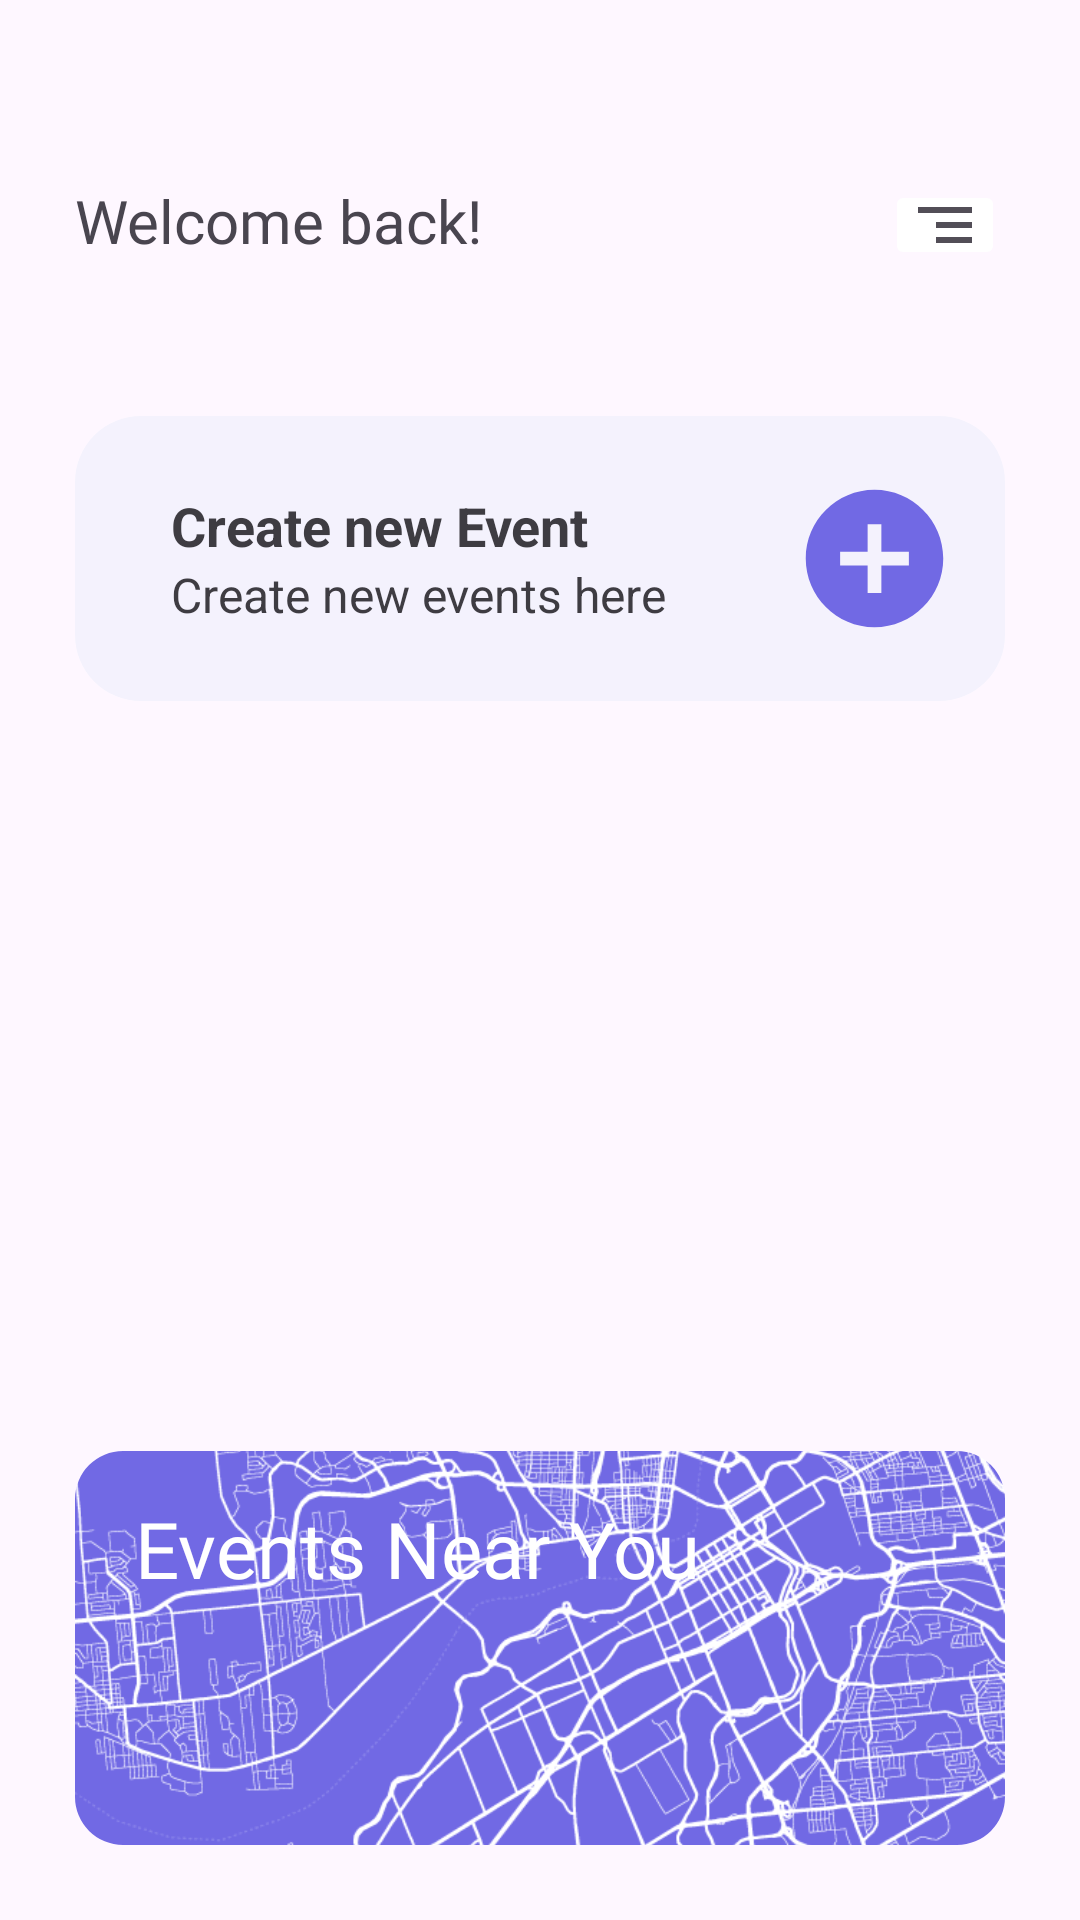

Named icons in this screenshot (1080px×1920px) and their centers, (x,y):
add circle: (874,558)
menu: (945,225)
